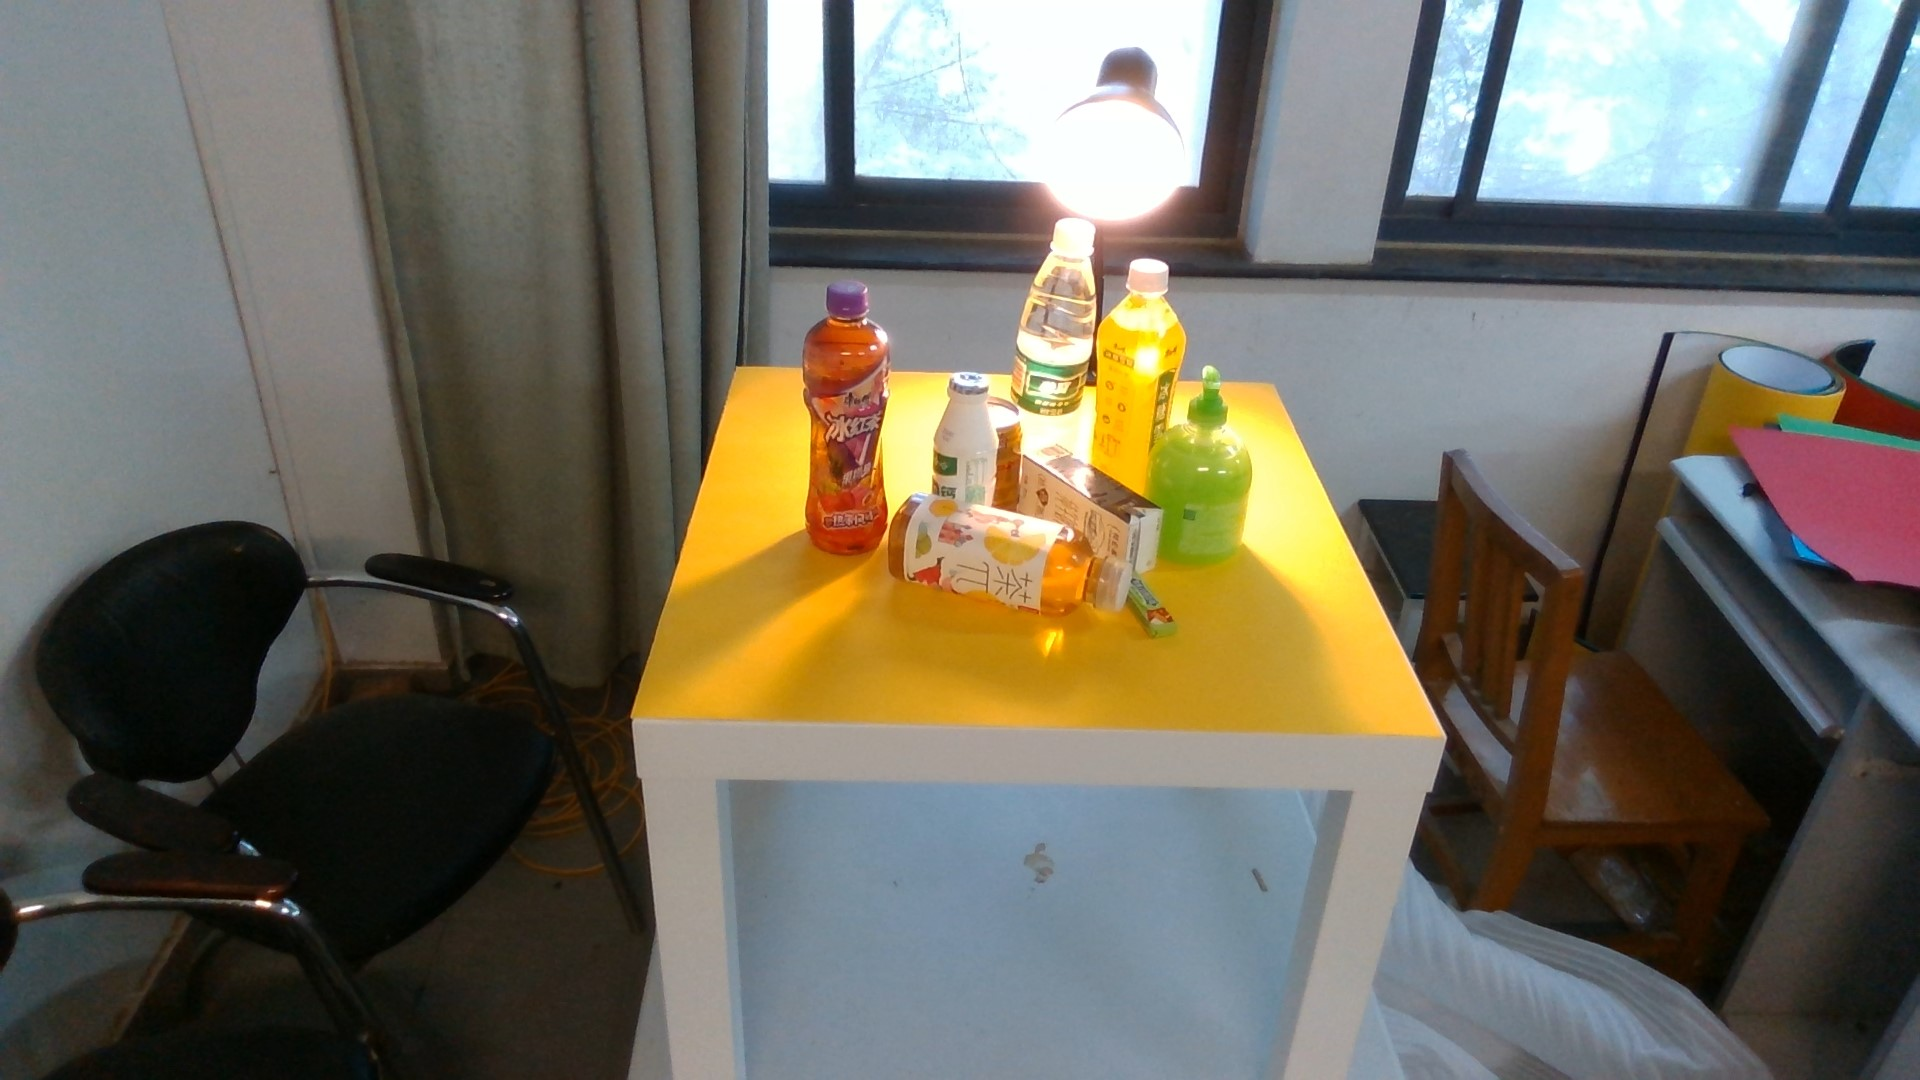BB002: (1130, 567, 1179, 638)
BB010: (1030, 475, 1156, 527)
ZA002: (1178, 364, 1255, 562)
ZC004: (997, 398, 1022, 498)
ZC005: (930, 373, 1000, 495)
ZC009: (804, 278, 887, 559)
ZC011: (1098, 256, 1149, 475)
ZC012: (893, 498, 1129, 615)
ZC017: (1022, 216, 1095, 433)
